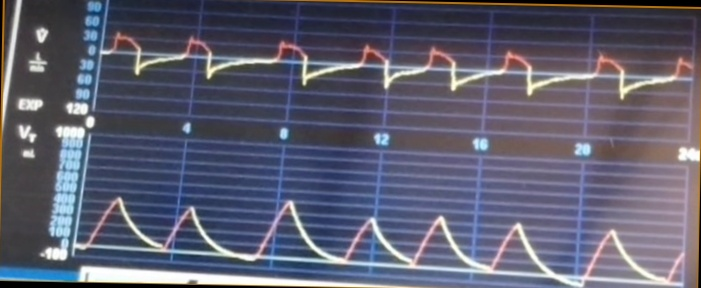Normal Flow: (104, 19, 694, 107)
Normal Volume: (80, 193, 683, 288)
